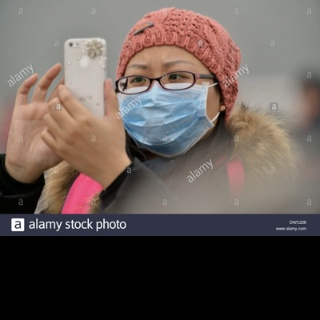with_mask: (114, 57, 216, 159)
